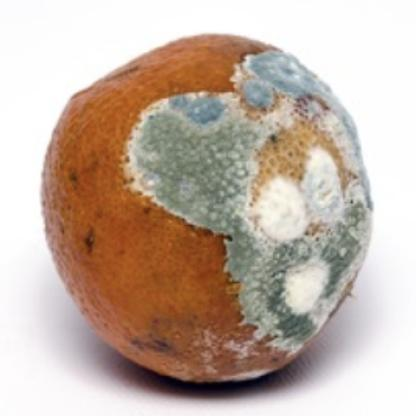rotten: (40, 31, 372, 380)
